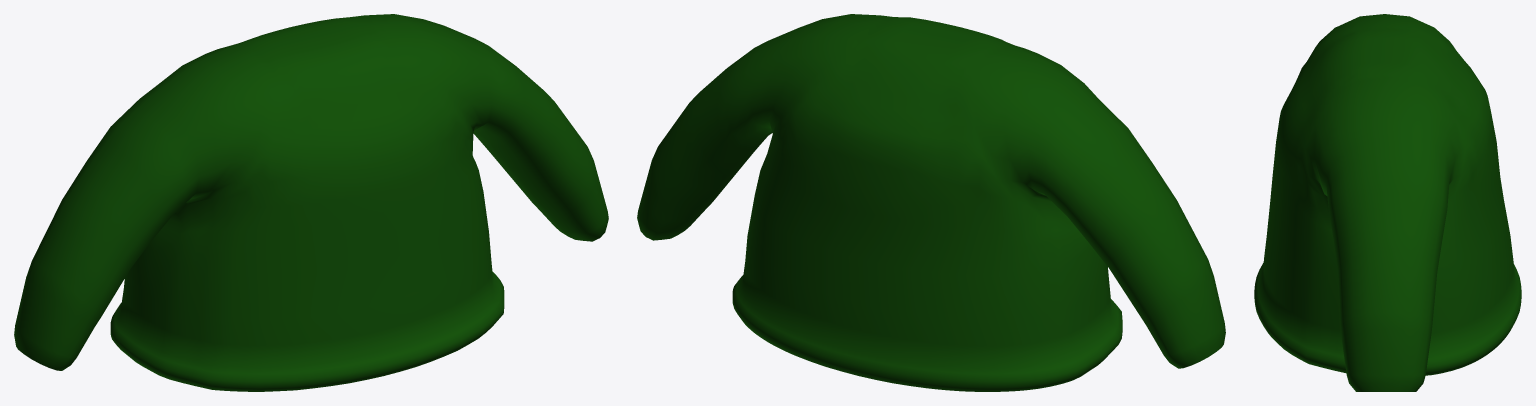
File: upperBody.glb
The picture shows the model from 3 angles, left to right: view 1: azimuth 30°, elevation 25°; view 2: azimuth 150°, elevation 25°; view 3: azimuth 270°, elevation 25°; orthographic projection. The views are drawn at different scales.
Parts seen in each view (by area): view 1: upperBody; view 2: upperBody; view 3: upperBody.
Part boxes in pixels (<box>): upperBody: <box>14,14,608,391</box>; upperBody: <box>637,14,1225,391</box>; upperBody: <box>1254,14,1521,391</box>.
Bounding box in the file's own units: 0.8811 × 0.4264 × 0.4019.
Materials: 1 (1 with a texture image).
